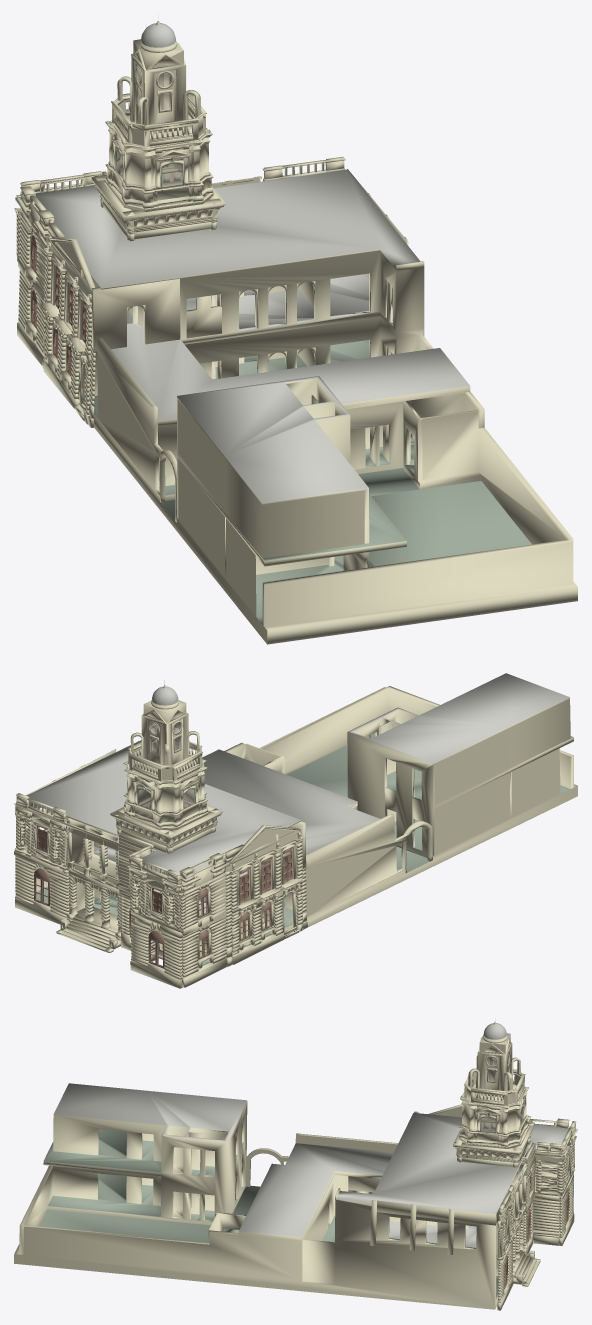
Rendered from comisaria.glb.
3 views of the same model, one above another, from view 1: azimuth 30°, elevation 25°; view 2: azimuth 150°, elevation 25°; view 3: azimuth 270°, elevation 25° (orthographic). The views are drawn at different scales.
Parts seen in each view (by area): view 1: Comisari7; view 2: Comisari7; view 3: Comisari7.
Boxes of the visible parts, left/top/right/bottom form: Comisari7: left=14, top=14, right=577, bottom=644; Comisari7: left=14, top=673, right=577, bottom=988; Comisari7: left=14, top=1017, right=577, bottom=1310.
Bounding box in the file's own units: 30.52 × 24.39 × 54.07.
